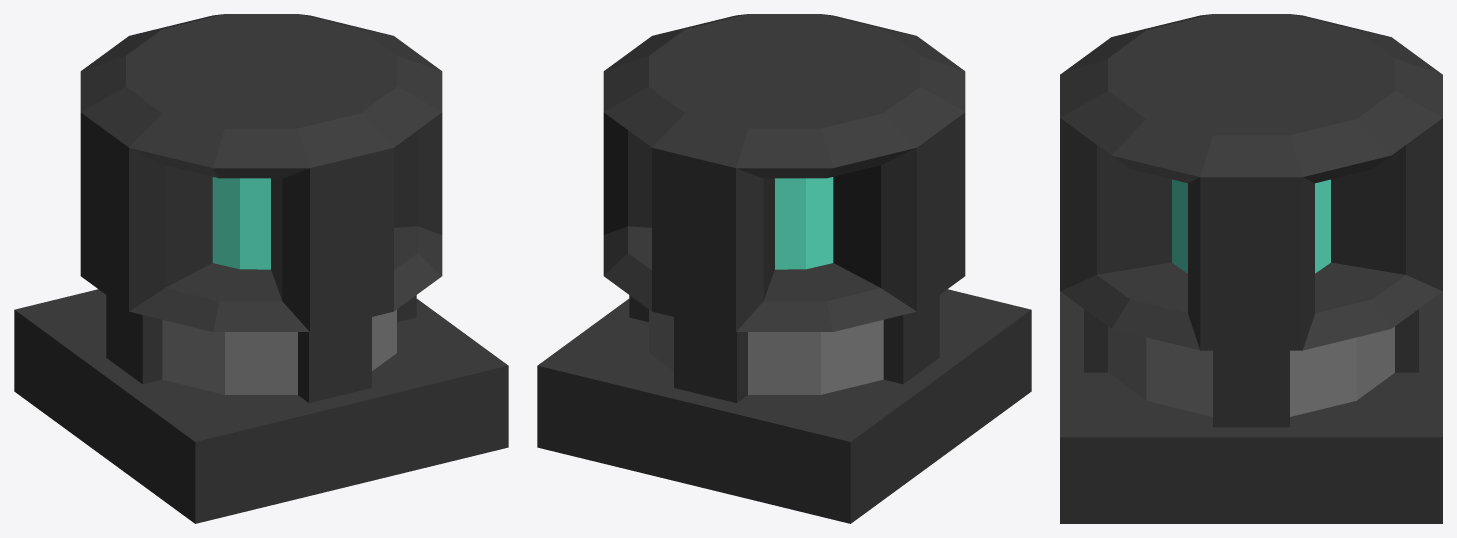
Rendered from MPC.obj.
3 views of the same model, side by side, from view 1: azimuth 30°, elevation 25°; view 2: azimuth 150°, elevation 25°; view 3: azimuth 270°, elevation 25° (orthographic). The views are drawn at different scales.
Parts seen in each view (by area): view 1: cylinder_selection, cuboid, cylinder_selection_selection; view 2: cylinder_selection, cuboid, cylinder_selection_selection; view 3: cylinder_selection, cuboid, cylinder_selection_selection.
Part boxes in pixels (x1,y1,x2,y2): cylinder_selection: [80, 14, 442, 402]; cuboid: [14, 289, 508, 523]; cylinder_selection_selection: [212, 177, 270, 269]; cylinder_selection: [603, 14, 965, 402]; cuboid: [537, 289, 1031, 523]; cylinder_selection_selection: [775, 177, 833, 269]; cylinder_selection: [1060, 14, 1442, 427]; cuboid: [1060, 291, 1442, 523]; cylinder_selection_selection: [1172, 179, 1330, 273].
Size of the model in its own units: 1 by 1.06 by 1.
